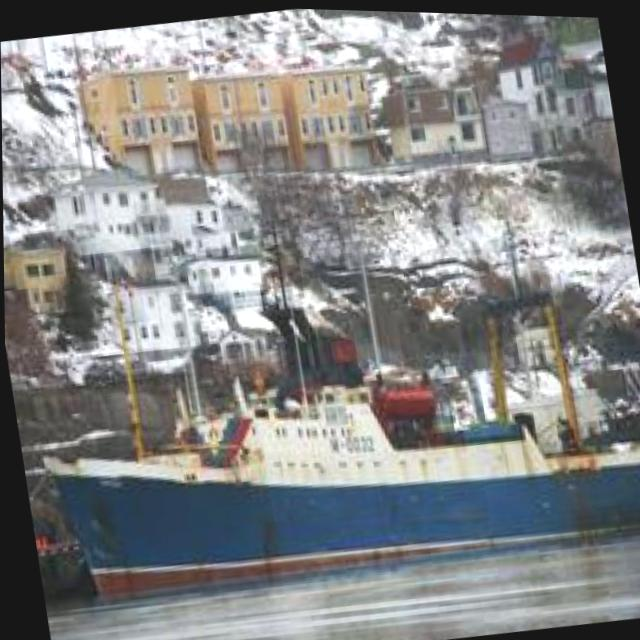ship2: (39, 254, 640, 597)
